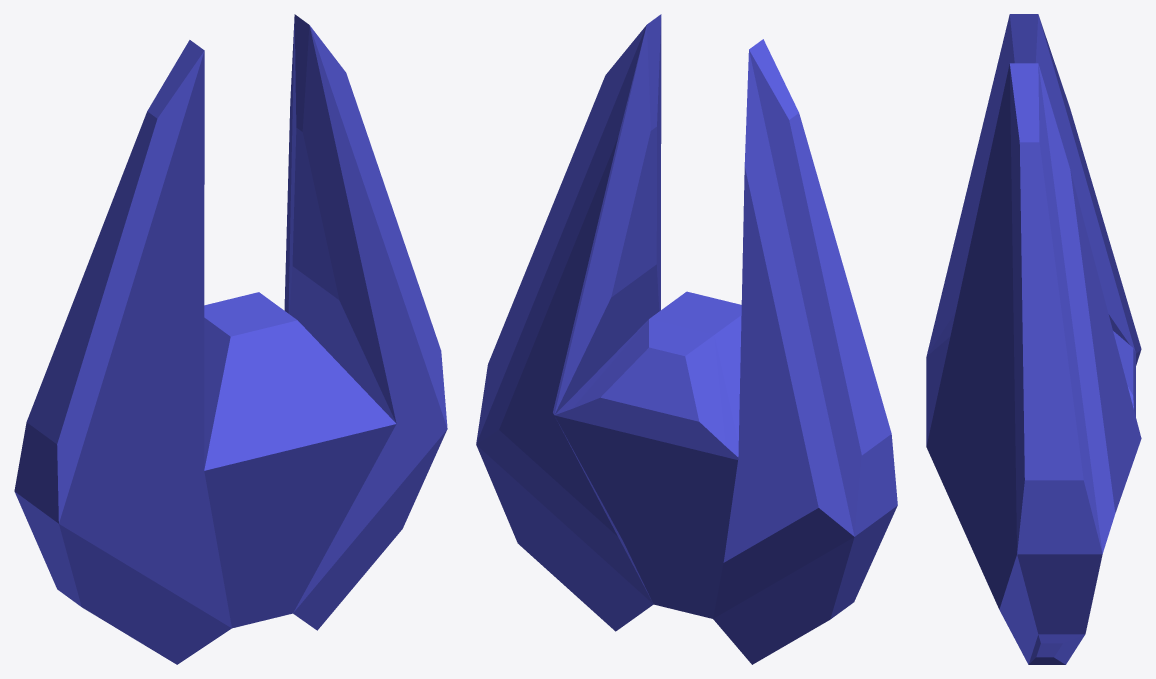
Rendered from Spaceship1.fbx.
The picture shows the model from 3 angles, left to right: view 1: azimuth 30°, elevation 25°; view 2: azimuth 150°, elevation 25°; view 3: azimuth 270°, elevation 25°; orthographic projection. The views are drawn at different scales.
Parts seen in each view (by area): view 1: Cube; view 2: Cube; view 3: Cube.
Boxes of the visible parts, x1,y1,x2,y2 form: Cube: (14,14,447,664); Cube: (476,14,897,664); Cube: (926,14,1141,664).
Bounding box in the file's own units: 404 × 613 × 201.
